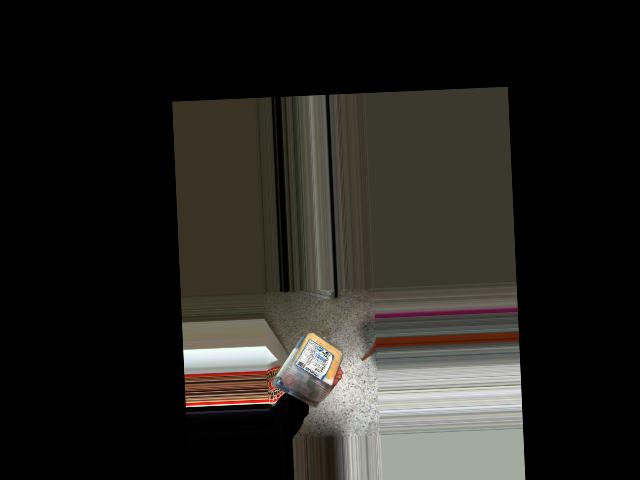cheese: (298, 329, 337, 396)
